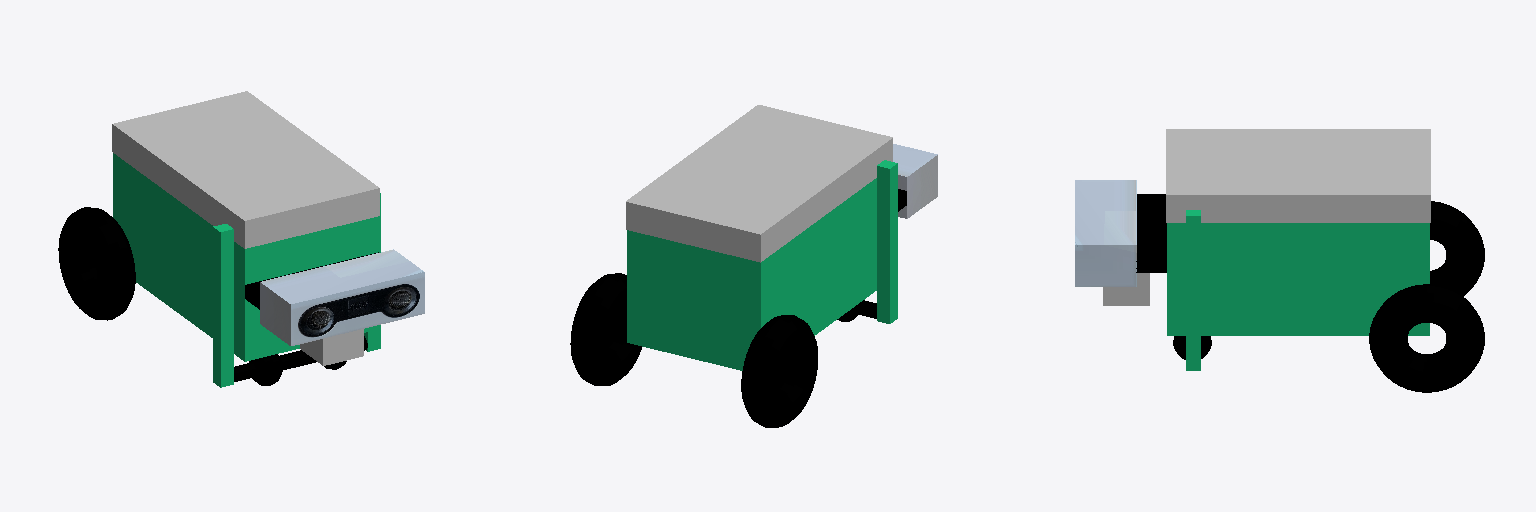
3 renders of one model, left to right at view 1: azimuth 30°, elevation 25°; view 2: azimuth 150°, elevation 25°; view 3: azimuth 270°, elevation 25°, orthographic.
Parts seen in each view (by area): view 1: Cube.006_Cube.010, Cube_Cube.001, Cube.001_Cube.005, Torus.001, Cube.004_Cube.008, Cube.003_Cube.007, Cylinder, Torus.002_Torus.006; view 2: Cube_Cube.001, Cube.006_Cube.010, Torus.001, Torus, Cube.004_Cube.008, Cube.001_Cube.005; view 3: Cube_Cube.001, Cube.006_Cube.010, Torus, Cube.001_Cube.005, Torus.001, Cube.005_Cube.009, Cube.002_Cube.006, Cube.003_Cube.007.
Part boxes in pixels (x1,y1,x2,y2): Cube.006_Cube.010: (112, 91, 379, 248); Cube_Cube.001: (113, 153, 378, 361); Cube.001_Cube.005: (260, 249, 424, 345); Torus.001: (58, 207, 135, 320); Cube.004_Cube.008: (213, 224, 233, 387); Cube.003_Cube.007: (300, 329, 363, 365); Cylinder: (234, 336, 367, 381); Torus.002_Torus.006: (249, 354, 282, 385); Cube_Cube.001: (627, 178, 876, 370); Cube.006_Cube.010: (626, 105, 892, 262); Torus.001: (741, 315, 817, 427); Torus: (570, 273, 641, 385); Cube.004_Cube.008: (877, 160, 897, 323); Cube.001_Cube.005: (893, 144, 937, 218); Cube_Cube.001: (1167, 223, 1429, 335); Cube.006_Cube.010: (1166, 129, 1430, 222); Torus: (1369, 284, 1484, 392); Cube.001_Cube.005: (1075, 180, 1136, 286); Torus.001: (1430, 201, 1484, 296); Cube.005_Cube.009: (1186, 210, 1200, 370); Cube.002_Cube.006: (1136, 194, 1166, 272); Cube.003_Cube.007: (1103, 273, 1149, 305).
Bounding box in the file's own units: 3.05 × 2.67 × 5.3.
5 materials, 1 textured.